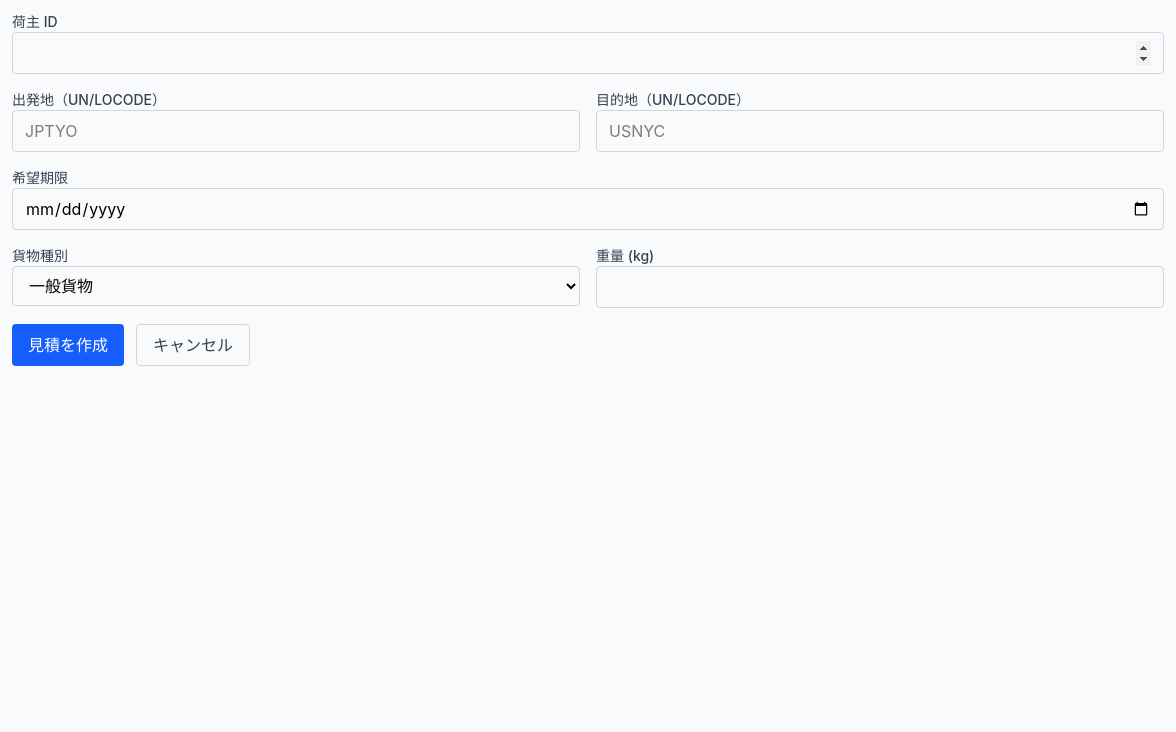
it: QuotationForm › 受入条件 6: 貨物種別を HAZARDOUS にすると危険物申告フォームが表示される
The image size is (1176, 732).
Select "危険物" in the dropdown labelled "貨物種別": (296, 286) 12,266 -> 580,306
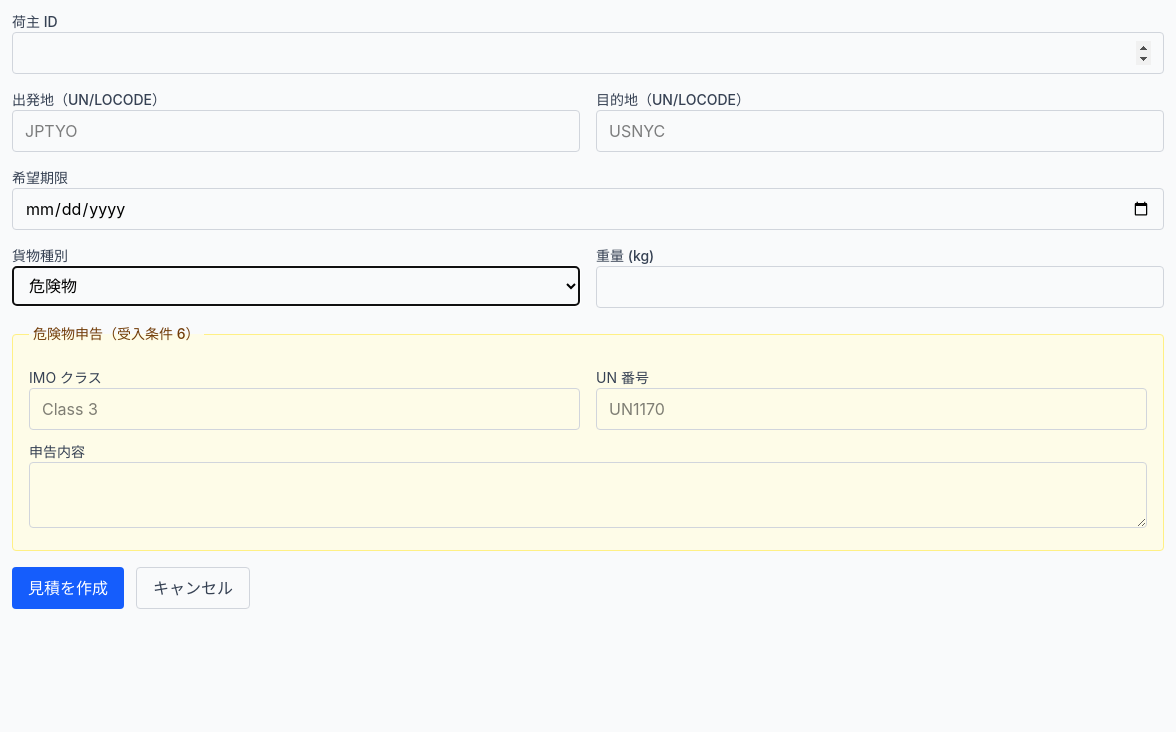
Result: the element with test id "hazard-info-fieldset" is shown at 12,324 -> 1164,551
Result: the field labelled "IMO クラス" is shown at 29,388 -> 580,430
Result: the field labelled "UN 番号" is shown at 596,388 -> 1147,430
